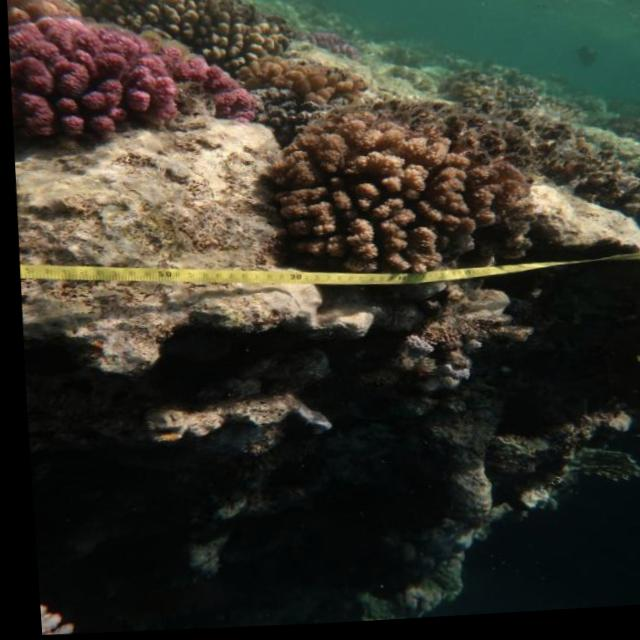Healthy Coral: (3, 0, 267, 165), (251, 120, 507, 280)
